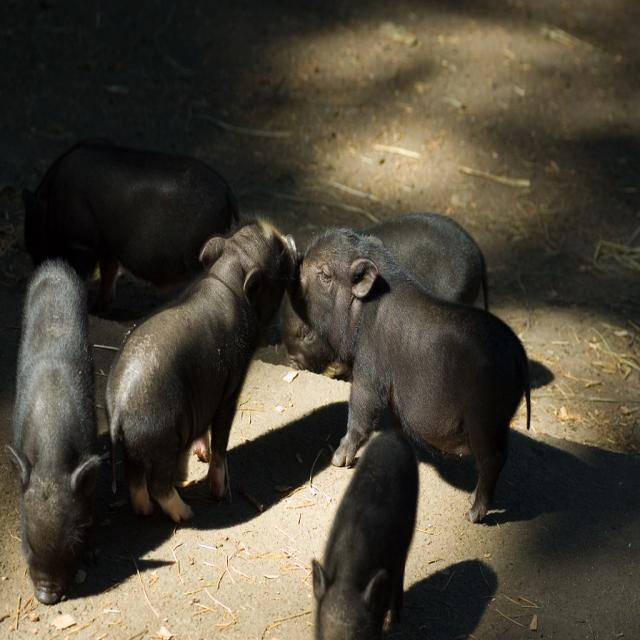Pig: (3, 139, 532, 640)
